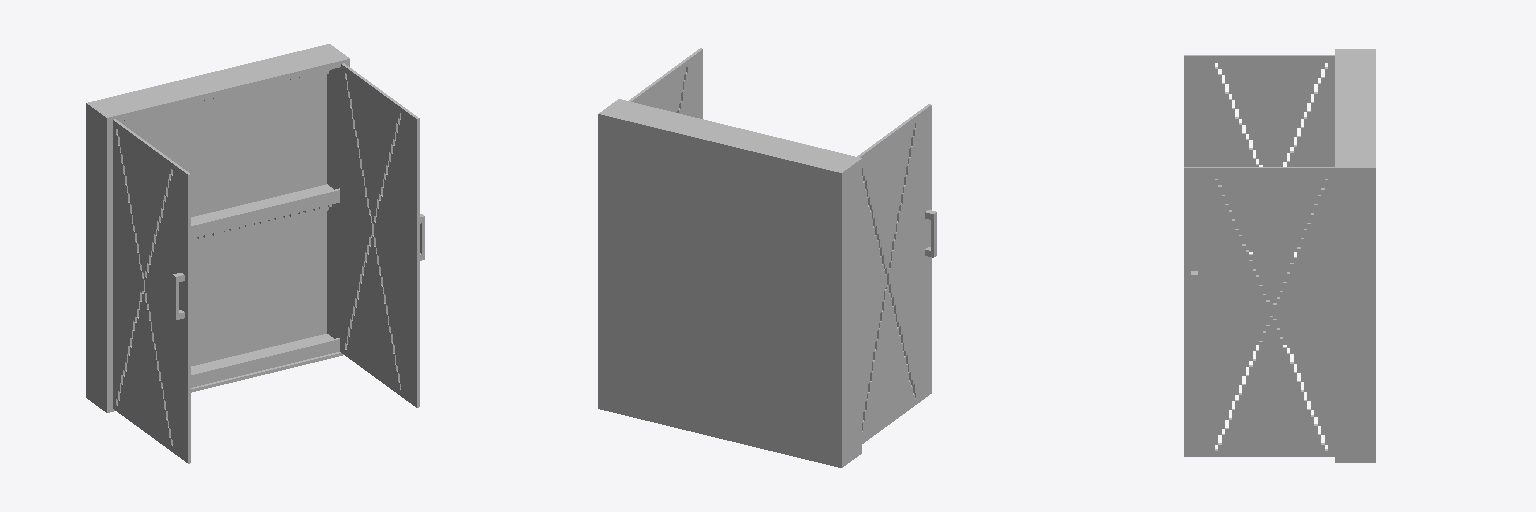
Rendered from Gun Cabinet.obj.
3 views of the same model, side by side, from view 1: azimuth 30°, elevation 25°; view 2: azimuth 150°, elevation 25°; view 3: azimuth 270°, elevation 25° (orthographic).
Bounding box in the file's own units: 84 × 95 × 56.